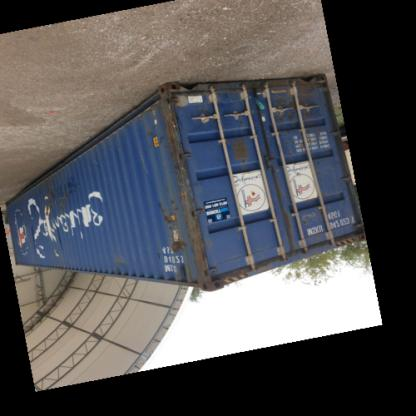Damage: (154, 94, 190, 186), (152, 197, 188, 262), (31, 186, 80, 221), (268, 96, 314, 130), (190, 229, 214, 282), (226, 130, 254, 168), (26, 226, 40, 257), (108, 256, 132, 274)
